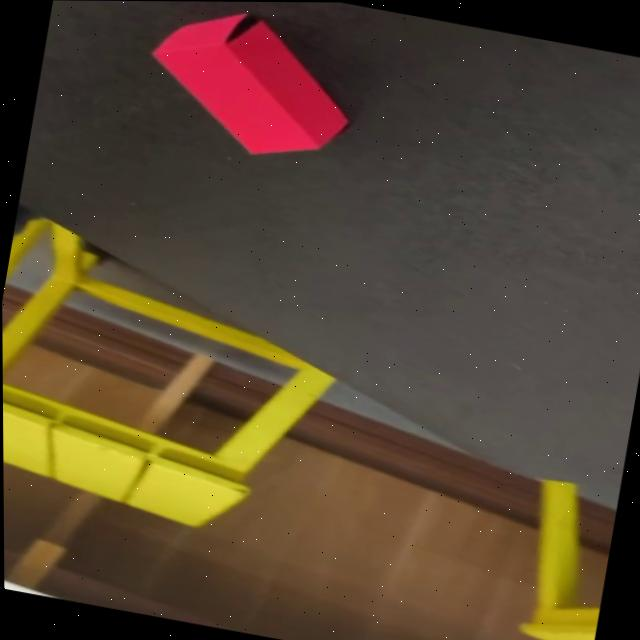red block: (133, 1, 364, 172)
